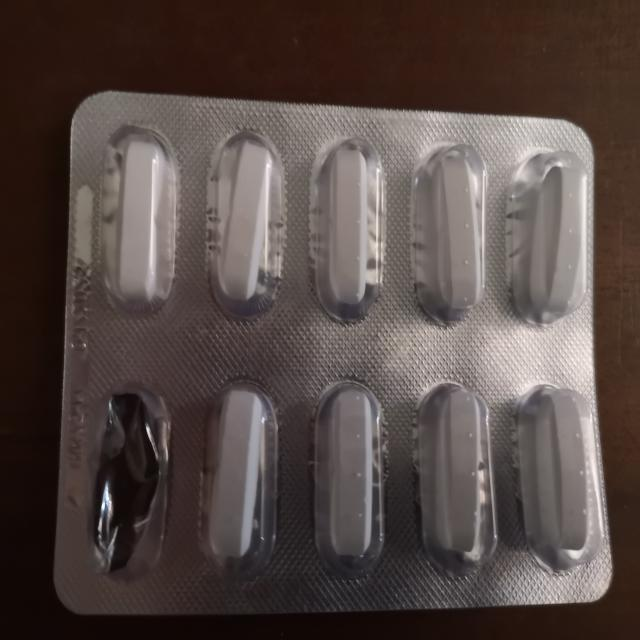Empty: (80, 377, 176, 590)
Pill: (411, 376, 505, 582), (195, 372, 284, 580), (308, 371, 395, 583), (511, 375, 603, 570), (200, 120, 289, 318), (96, 120, 183, 320), (405, 132, 493, 325), (505, 136, 592, 327), (307, 131, 391, 326)
